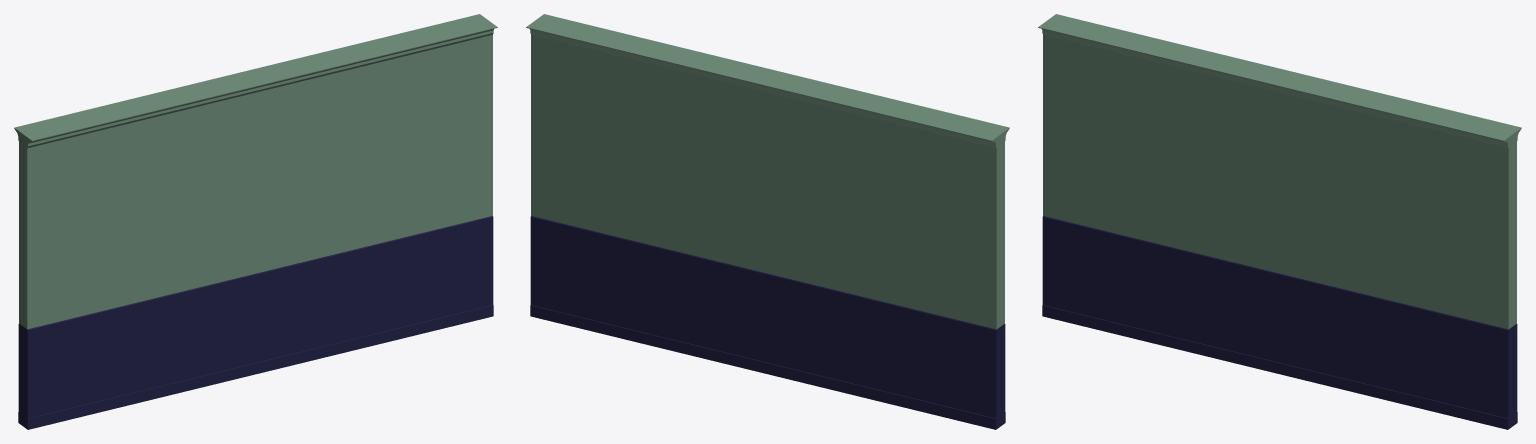
Rendered from wall_5m.fbx.
3 views of the same model, side by side, from view 1: azimuth 30°, elevation 25°; view 2: azimuth 150°, elevation 25°; view 3: azimuth 330°, elevation 25° (orthographic).
Visible parts, largest first — view 1: Cube.003; view 2: Cube.003; view 3: Cube.003.
Boxes of the visible parts, x1,y1,x2,y2 form: Cube.003: [14, 14, 497, 429]; Cube.003: [526, 14, 1009, 429]; Cube.003: [1038, 14, 1521, 429].
Bounding box in the file's own units: 500 × 300 × 33.43.
